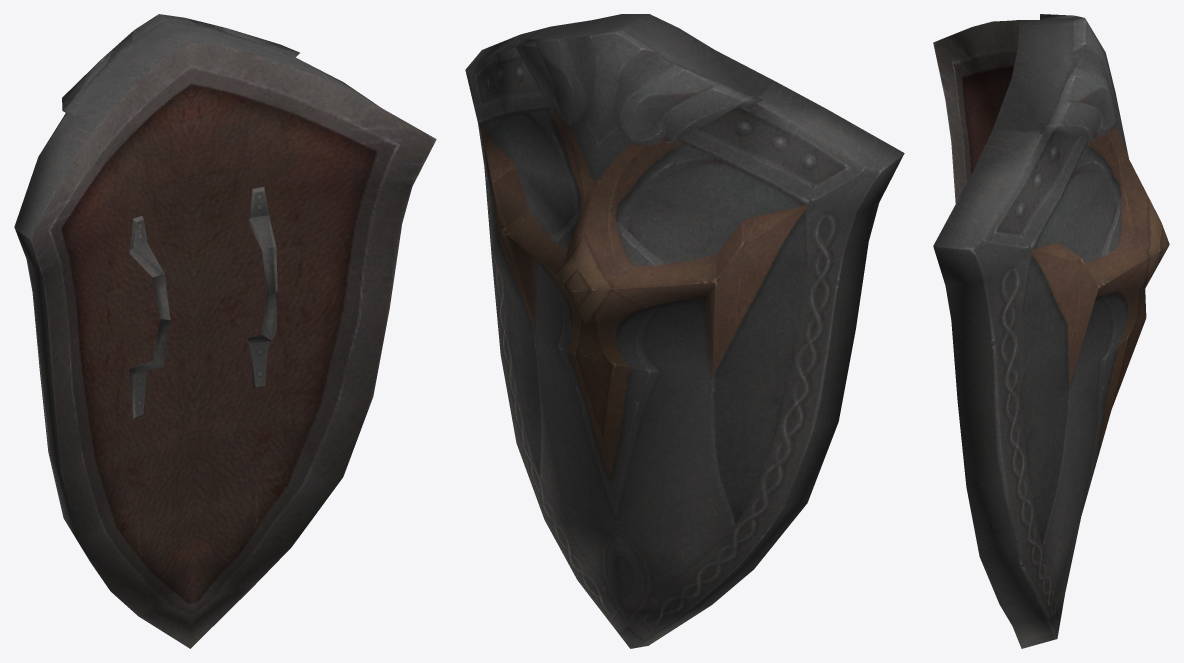
The model's file is Shield_01.FBX.
3 renders of one model, left to right at view 1: azimuth 30°, elevation 25°; view 2: azimuth 150°, elevation 25°; view 3: azimuth 270°, elevation 25°, orthographic. The views are drawn at different scales.
Visible parts, largest first — view 1: 5_d1_t6_001; view 2: 5_d1_t6_001; view 3: 5_d1_t6_001.
Part boxes in pixels (x1,y1,x2,y2): 5_d1_t6_001: (14,14,436,648); 5_d1_t6_001: (465,14,904,648); 5_d1_t6_001: (933,14,1169,648).
Bounding box in the file's own units: 82.45 × 119 × 40.5.
